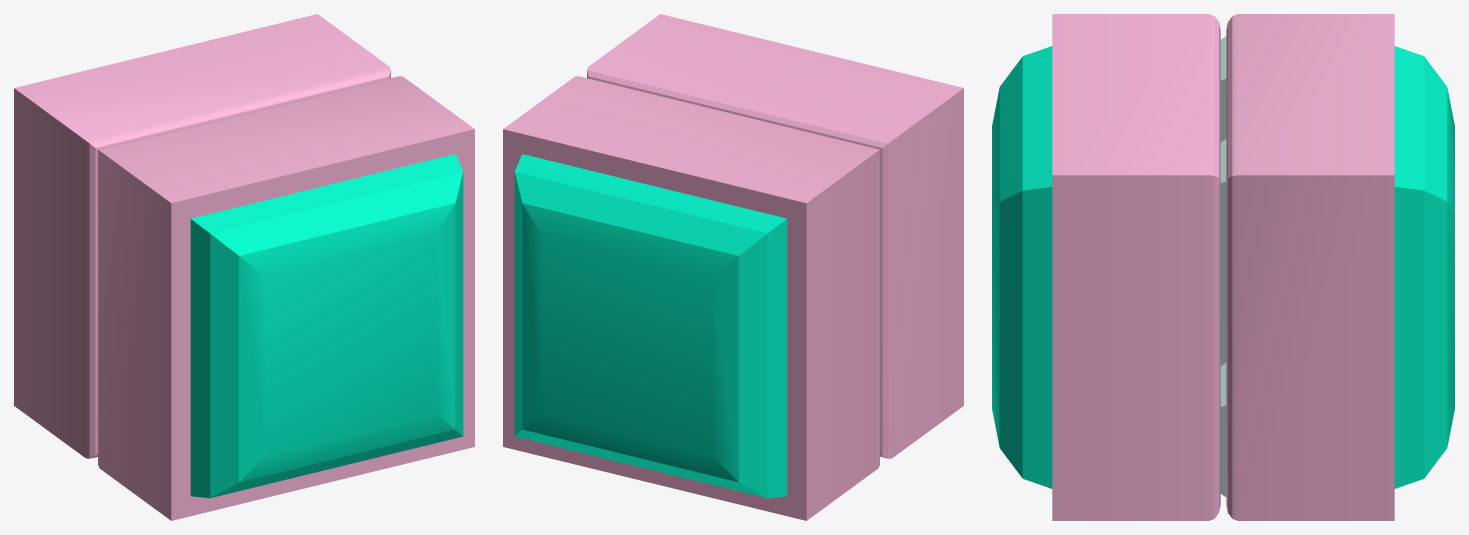
The model's file is Box_With_Thorns.fbx.
The picture shows the model from 3 angles, left to right: view 1: azimuth 30°, elevation 25°; view 2: azimuth 150°, elevation 25°; view 3: azimuth 270°, elevation 25°; orthographic projection. The views are drawn at different scales.
Parts seen in each view (by area): view 1: BWT_Holder, BWT_Mover; view 2: BWT_Mover, BWT_Holder; view 3: BWT_Mover, BWT_Holder.
Boxes of the visible parts, x1,y1,x2,y2 form: BWT_Holder: [98, 76, 474, 520]; BWT_Mover: [14, 14, 390, 458]; BWT_Mover: [503, 76, 879, 520]; BWT_Holder: [587, 14, 963, 458]; BWT_Mover: [1220, 14, 1454, 520]; BWT_Holder: [992, 14, 1220, 520].
Size of the model in its own units: 199 by 199 by 241.
